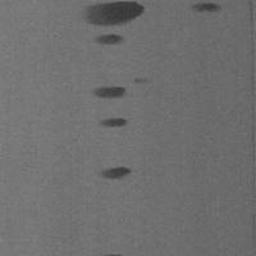Oil spot: (81, 0, 146, 27), (92, 32, 127, 49), (90, 84, 127, 100), (96, 165, 133, 180), (188, 0, 224, 15), (97, 116, 128, 128), (132, 76, 155, 86)
